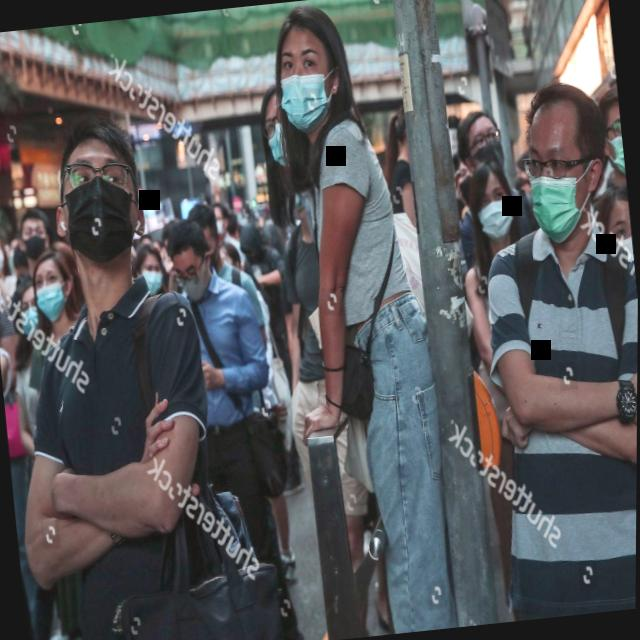Mask: (516, 74, 613, 252), (43, 121, 149, 283), (263, 1, 354, 144), (464, 158, 520, 245), (165, 220, 212, 304), (593, 192, 636, 282), (456, 105, 506, 178), (30, 246, 76, 320), (596, 83, 627, 181), (7, 276, 51, 336), (133, 241, 170, 295), (20, 205, 55, 261)
